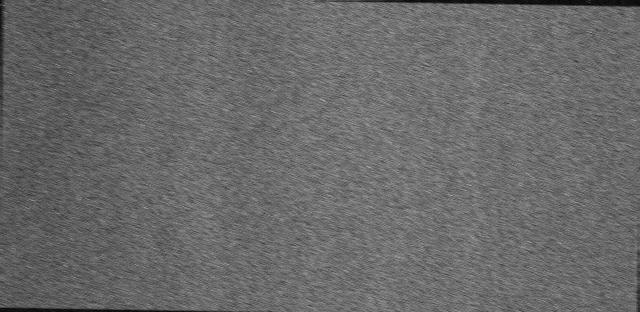silk_spot: (48, 5, 125, 198)
